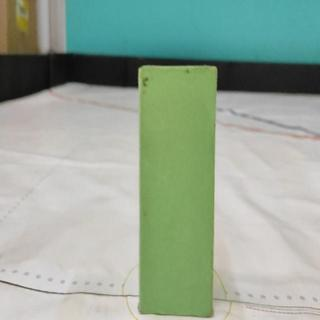greenbox: (139, 66, 214, 317)
